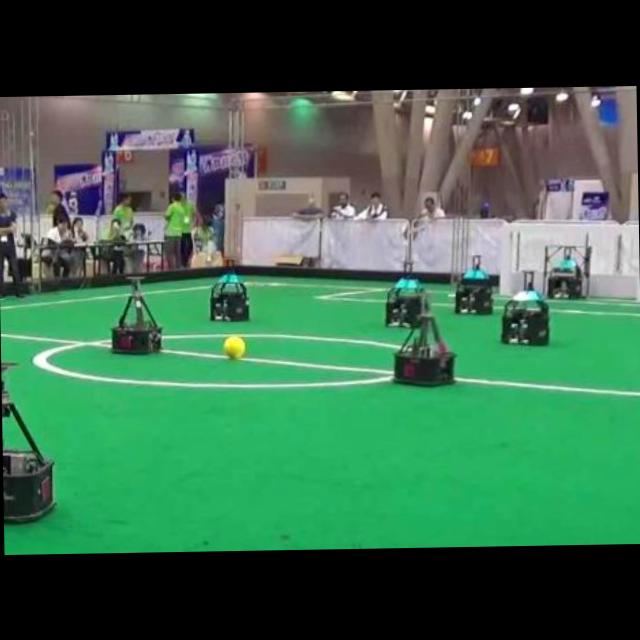ball: (223, 335, 245, 359)
goal: (500, 223, 513, 294)
robot: (2, 379, 54, 522), (394, 314, 454, 384), (111, 289, 160, 352), (501, 291, 548, 344), (454, 255, 497, 312), (386, 275, 430, 327), (210, 273, 247, 319), (548, 259, 584, 299)
